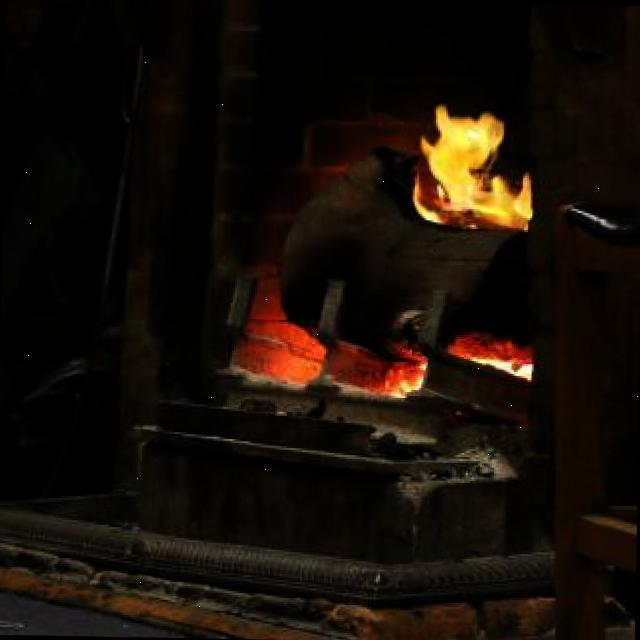fire: (384, 99, 542, 238)
